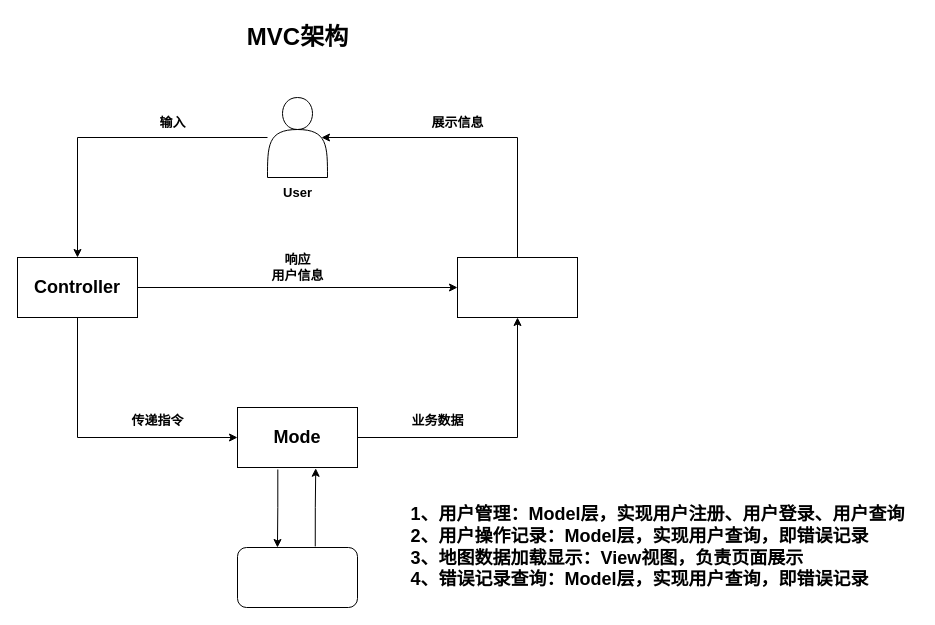
This 935x625 diagram has some shape labels left out. Each missing label, with the centre of its shape:
DB: the point at 297,577
View: the point at 517,287
